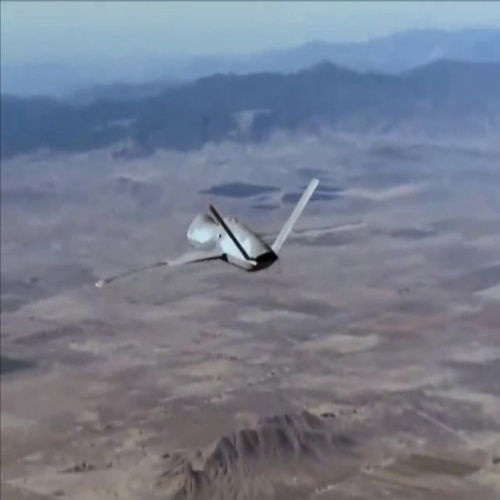uav: (80, 171, 371, 290)
